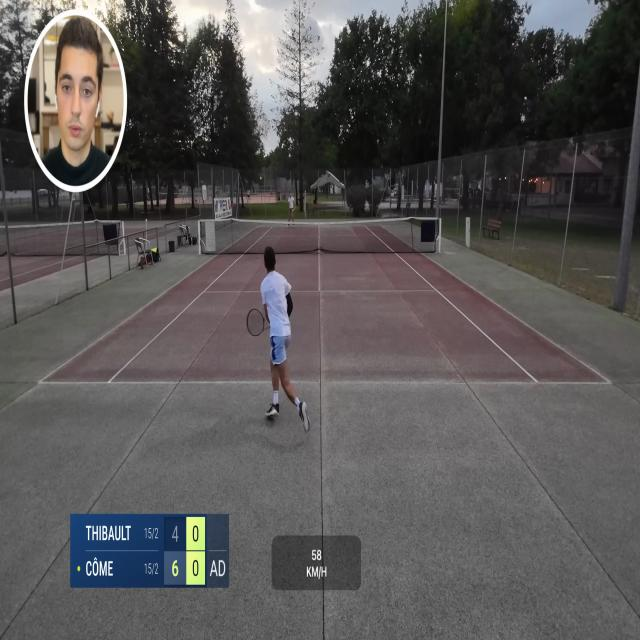ball: (260, 176, 262, 180)
